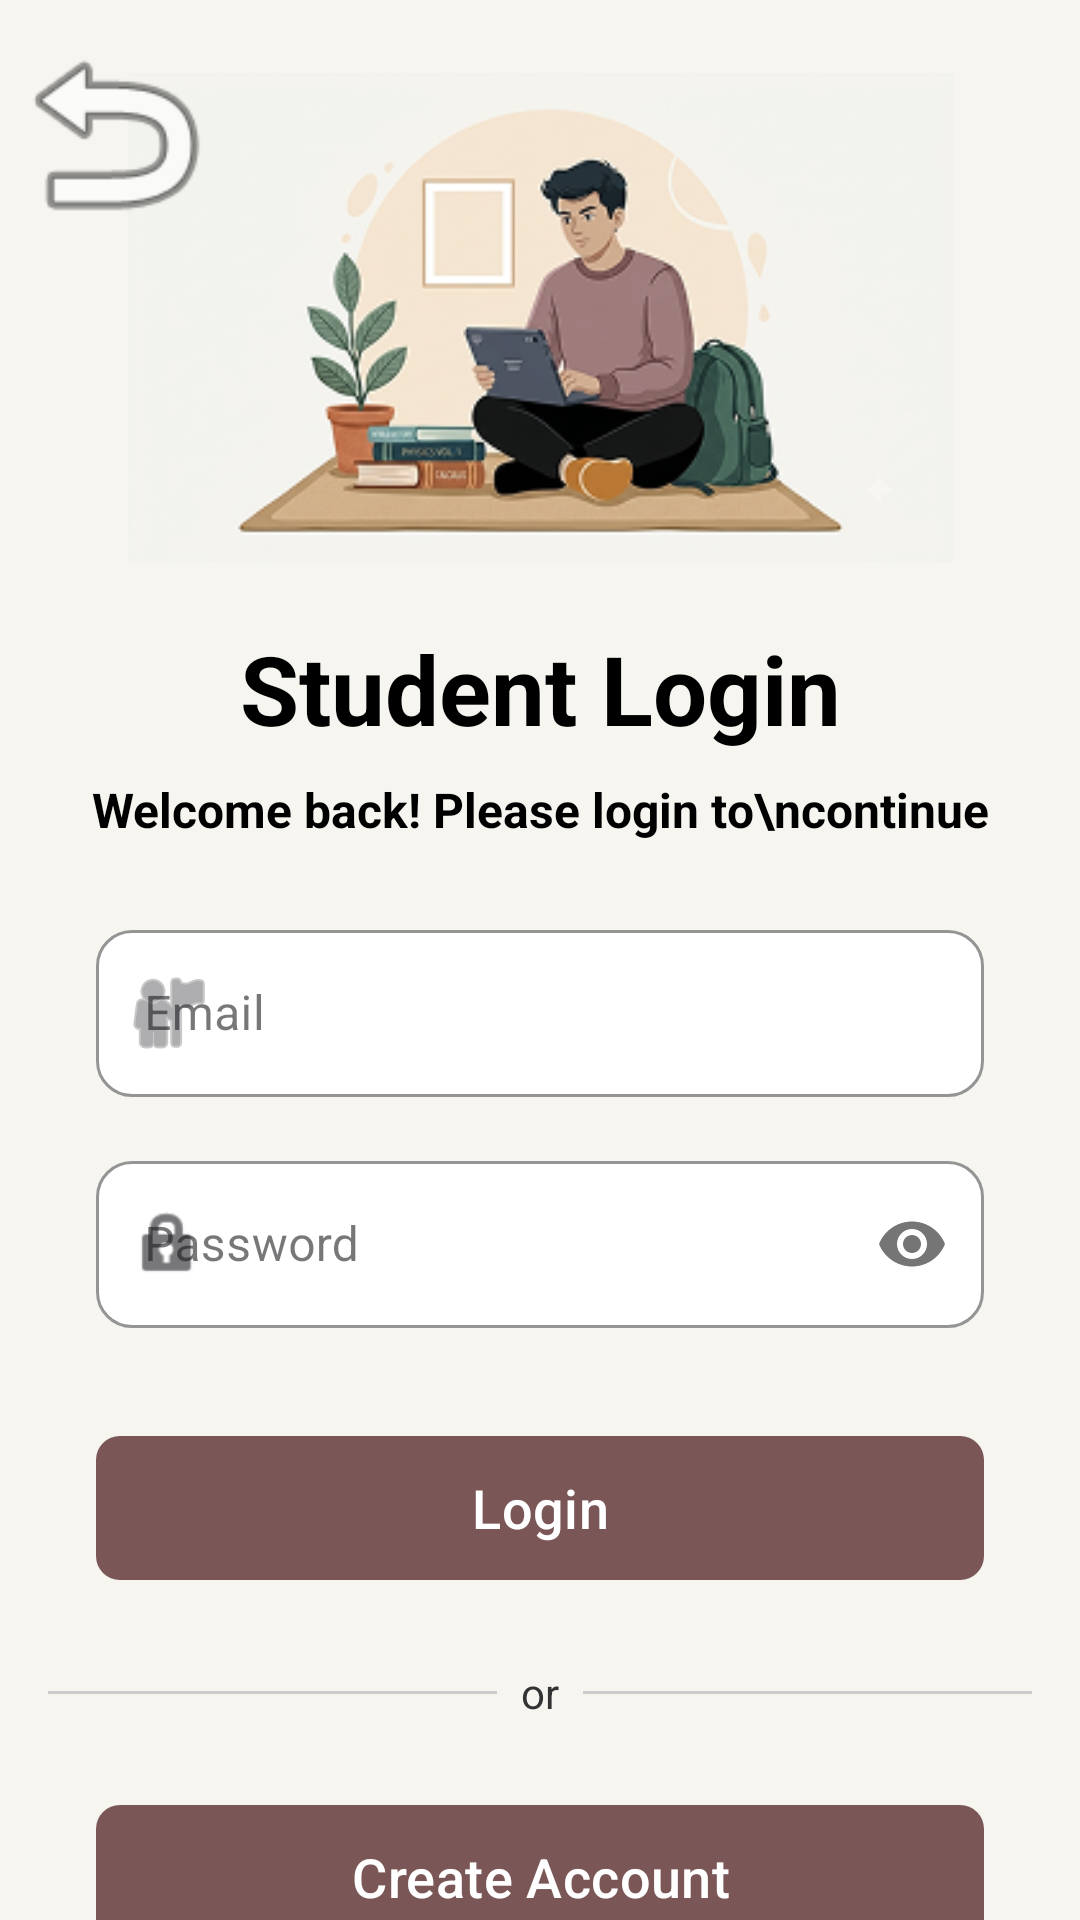

Icons on this 1080x1920 Android screen, each with its box as (x1, y1, x2, y2):
back: (35, 61, 200, 210)
